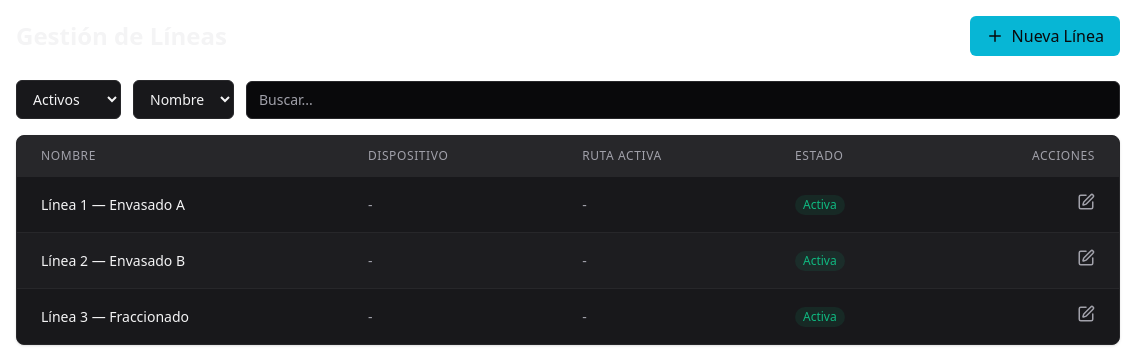
Scenario: LineasPage › typing search text filters activos by nombre; clearing restores full list
expect the text "Línea 1 — Envasado A" is shown: met, box [17,176,344,232]
Type "envasado a" into the field with placeholder "Buscar..." at point(683, 100), box [246,80,1120,118]
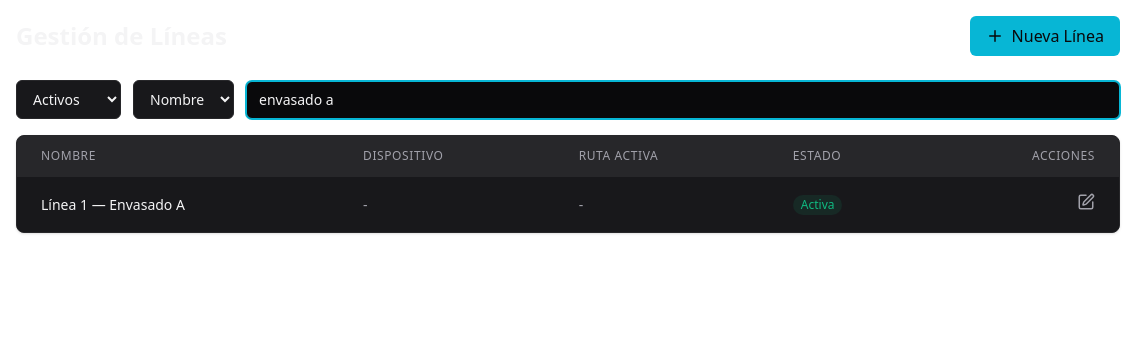
expect the text "Línea 1 — Envasado A" is shown: met, box [17,176,339,232]
expect the text "Línea 2 — Envasado B" is gone: met
expect the text "Línea 3 — Fraccionado" is gone: met
Clear the field with placeholder "Buscar..." at point(683, 100), box [246,80,1120,118]
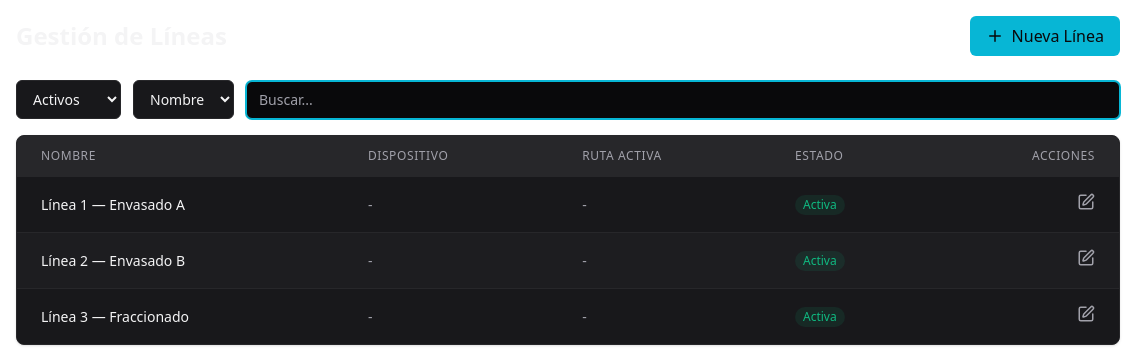
expect the text "Línea 1 — Envasado A" is shown: met, box [17,176,344,232]
expect the text "Línea 2 — Envasado B" is shown: met, box [17,232,344,288]
expect the text "Línea 3 — Fraccionado" is shown: met, box [17,288,344,344]
